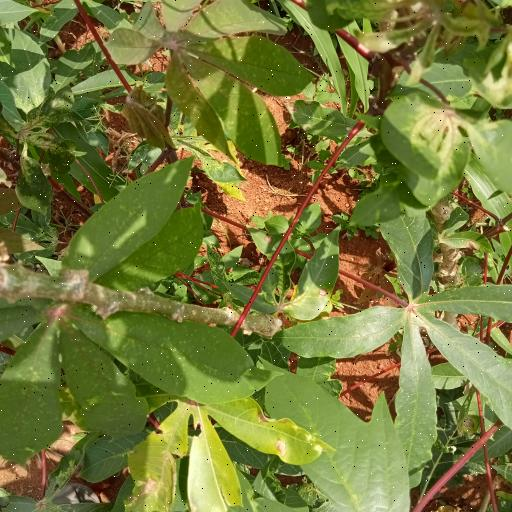Cassava_Healthy: (290, 187, 512, 461)
